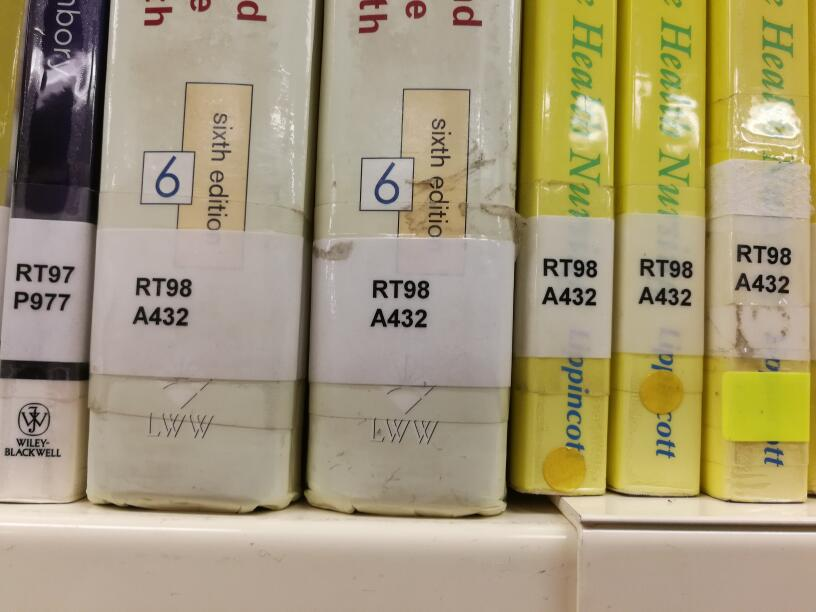booklabel: (365, 275, 433, 330), (11, 258, 76, 314), (128, 273, 194, 328), (536, 253, 601, 308), (634, 254, 696, 310), (732, 241, 794, 297)
